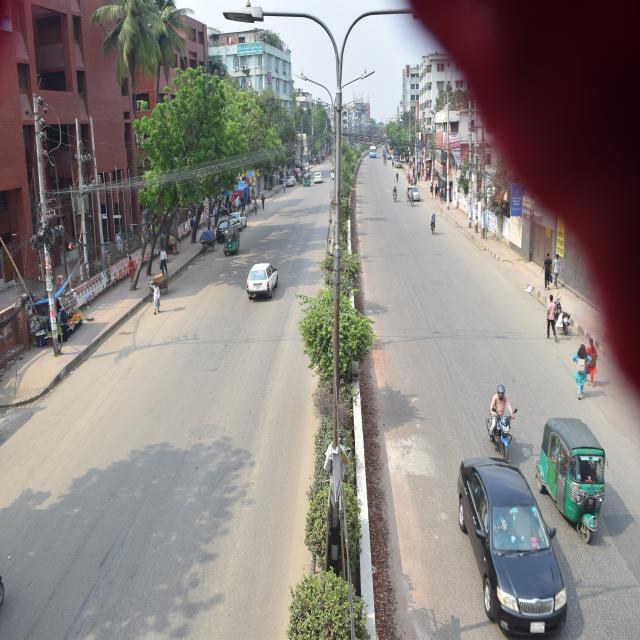car: (451, 440, 560, 640), (243, 262, 282, 308), (280, 170, 299, 191), (213, 218, 230, 239), (230, 208, 245, 228), (311, 168, 323, 186), (410, 188, 422, 206)
microbus: (368, 144, 379, 158)
motorbike: (484, 382, 516, 448), (550, 296, 572, 337)
